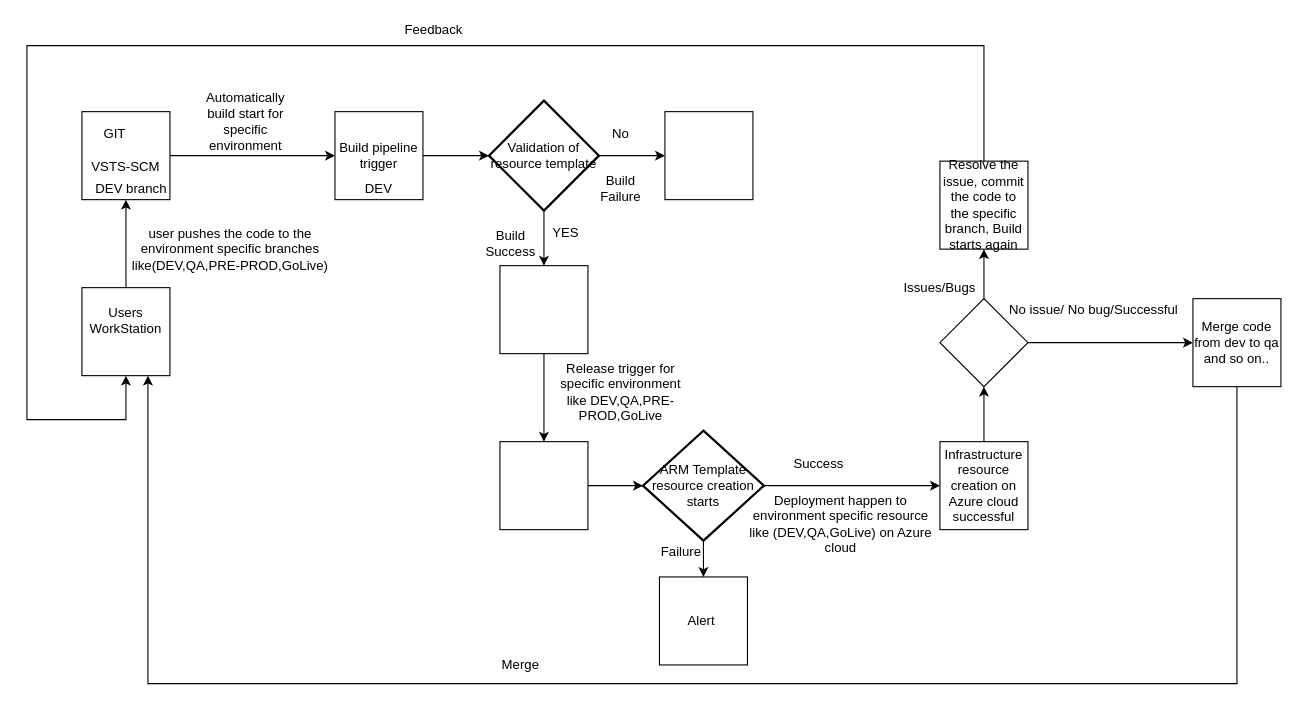
Image size: 1300x712. Some labels were removed from this diagram. Each missing label, with the centre of its shape:
"Alert and email notification" belongs at point 708,155.
"Artifacts with build no stored in pipeline itself" belongs at point 543,309.
"Release" belongs at point 543,485.
"Testing" belongs at point 983,342.
